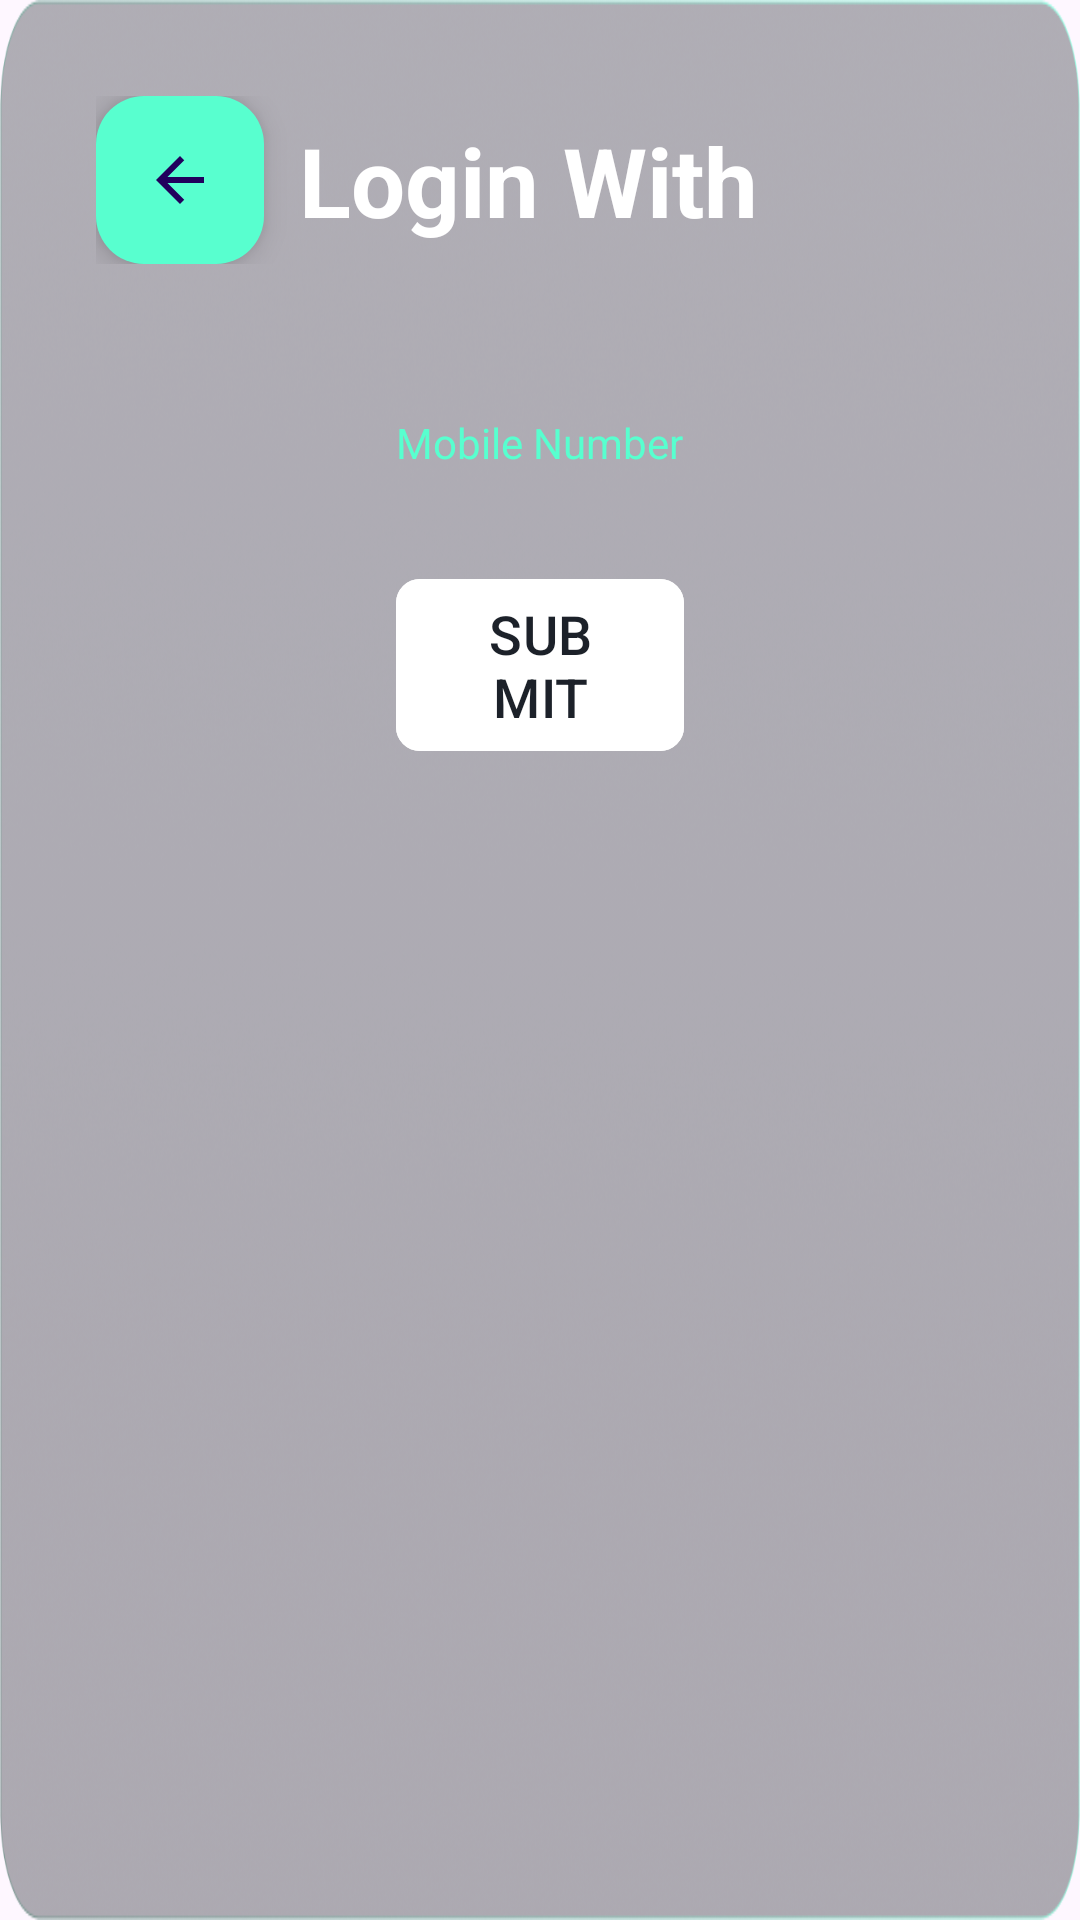

Icon click points for this 1080px×1920px phone screenshot, format (x=x, y=y):
Back Button: (x=180, y=180)
